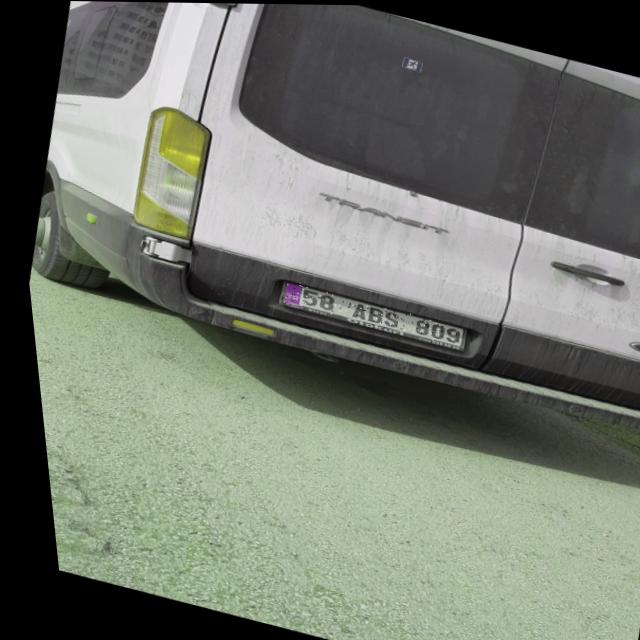plate: (272, 280, 460, 347)
